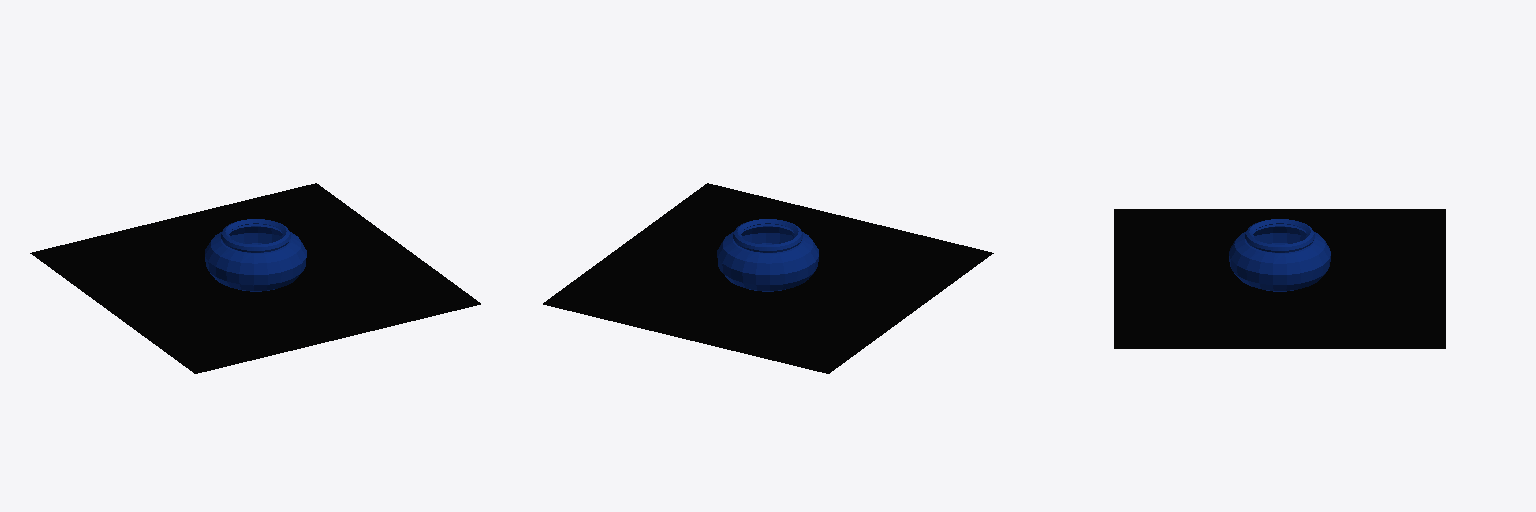
File: Goldfish_final.obj
The picture shows the model from 3 angles: view 1: azimuth 30°, elevation 25°; view 2: azimuth 150°, elevation 25°; view 3: azimuth 270°, elevation 25°; orthographic projection.
Visible parts, largest first — view 1: pPlane1, FishBowl; view 2: pPlane1, FishBowl; view 3: pPlane1, FishBowl.
Part boxes in pixels (left/top/right/bottom): pPlane1: left=30, top=183, right=480, bottom=373; FishBowl: left=205, top=219, right=306, bottom=291; pPlane1: left=543, top=183, right=993, bottom=373; FishBowl: left=717, top=219, right=818, bottom=291; pPlane1: left=1114, top=209, right=1445, bottom=348; FishBowl: left=1229, top=219, right=1330, bottom=291.
Size of the model in its own units: 73.01 by 11.78 by 73.01.